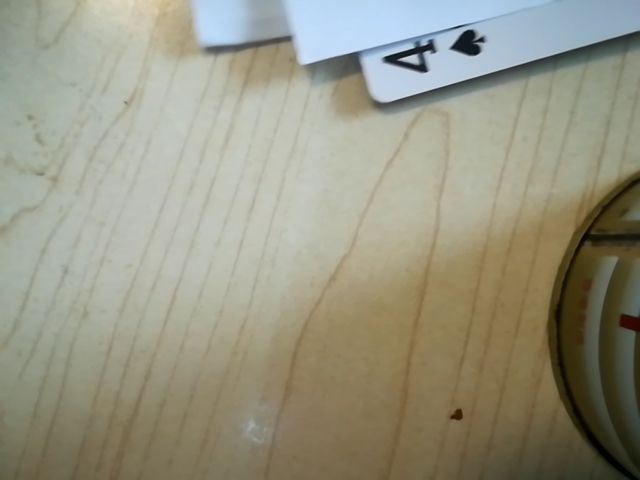ht 4: (346, 13, 541, 98)
